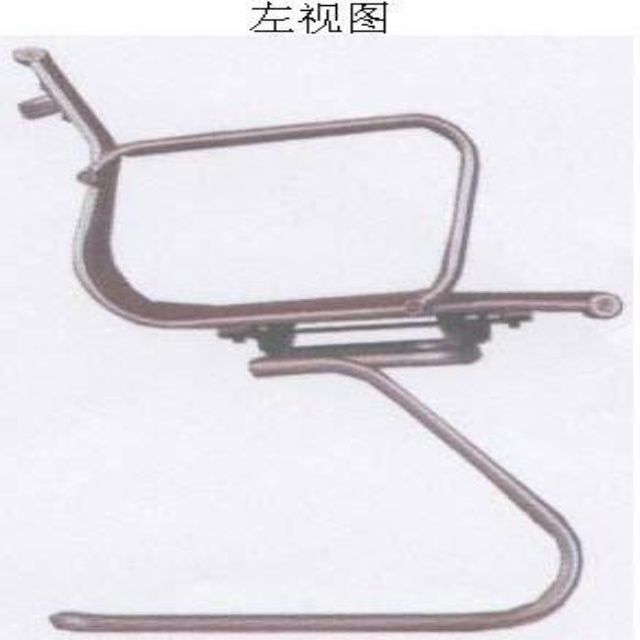obstacle: (2, 37, 631, 638)
